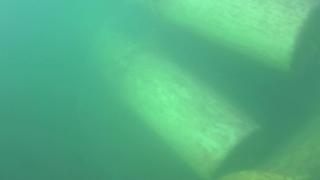pipe: (91, 26, 261, 178), (148, 1, 319, 76), (260, 103, 320, 180)
